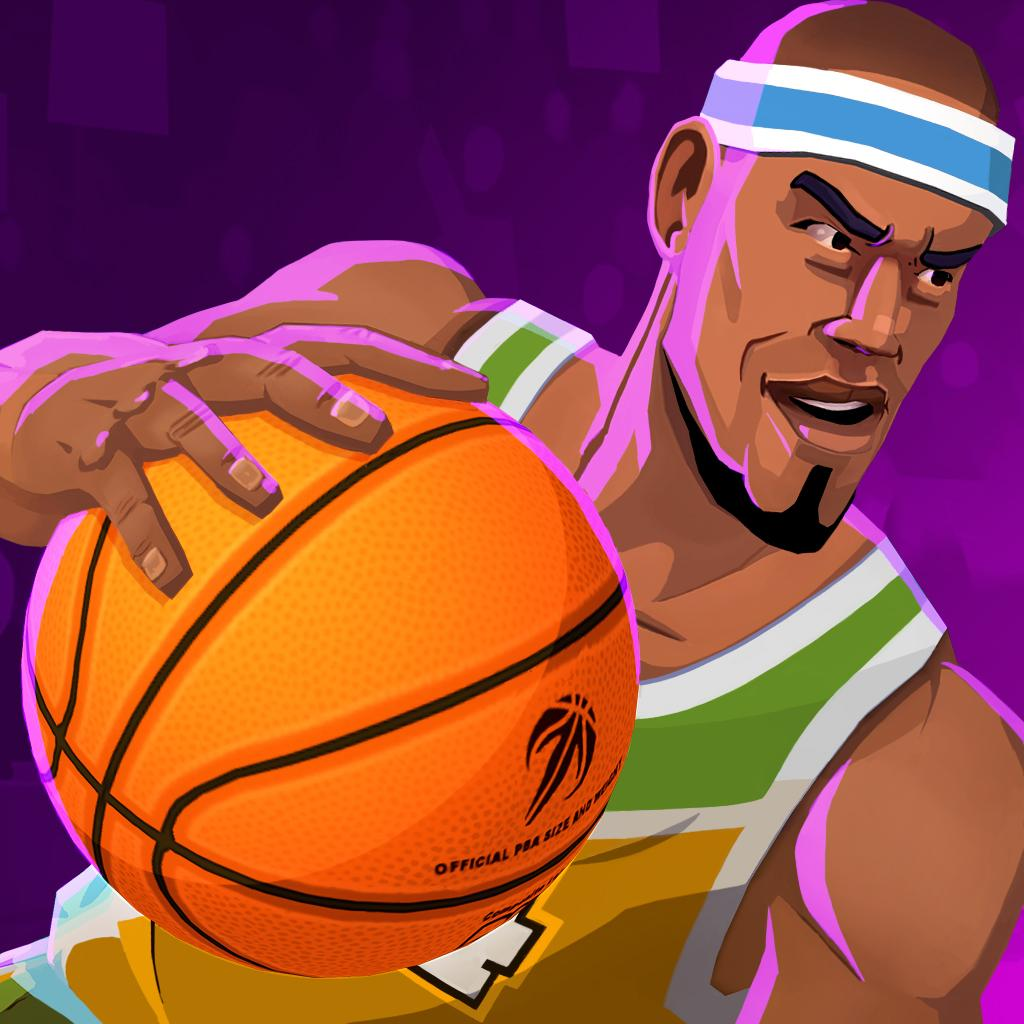ball: (16, 328, 648, 985)
